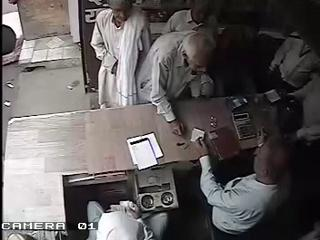Normal: (188, 130, 295, 240), (136, 29, 222, 138), (90, 0, 152, 108)
